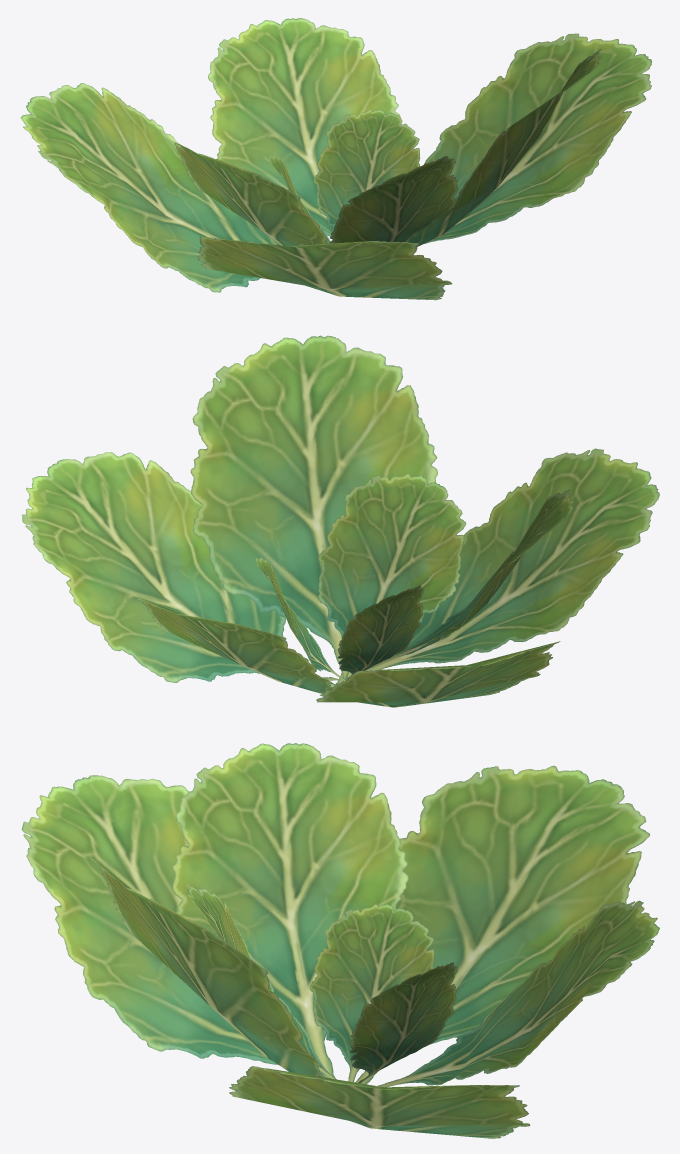
The model's file is plant_cabbage_S2.fbx.
The picture shows the model from 3 angles, top to bottom: view 1: azimuth 30°, elevation 25°; view 2: azimuth 150°, elevation 25°; view 3: azimuth 270°, elevation 25°; orthographic projection. The views are drawn at different scales.
Visible parts, largest first — view 1: plant_cabbage_S2; view 2: plant_cabbage_S2; view 3: plant_cabbage_S2.
Part boxes in pixels (left/top/right/bottom): plant_cabbage_S2: left=20, top=18, right=651, bottom=300; plant_cabbage_S2: left=22, top=335, right=659, bottom=707; plant_cabbage_S2: left=21, top=743, right=659, bottom=1138.
Bounding box in the file's own units: 58.07 × 24.8 × 47.85.
